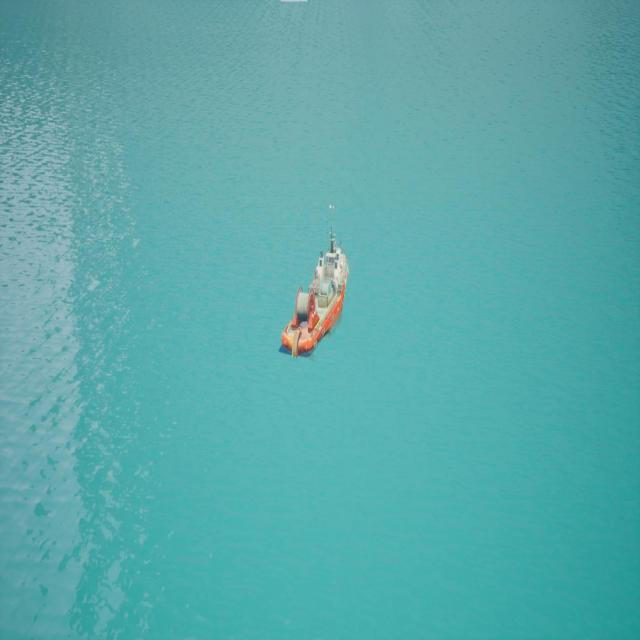tug boat: (291, 208, 350, 358)
